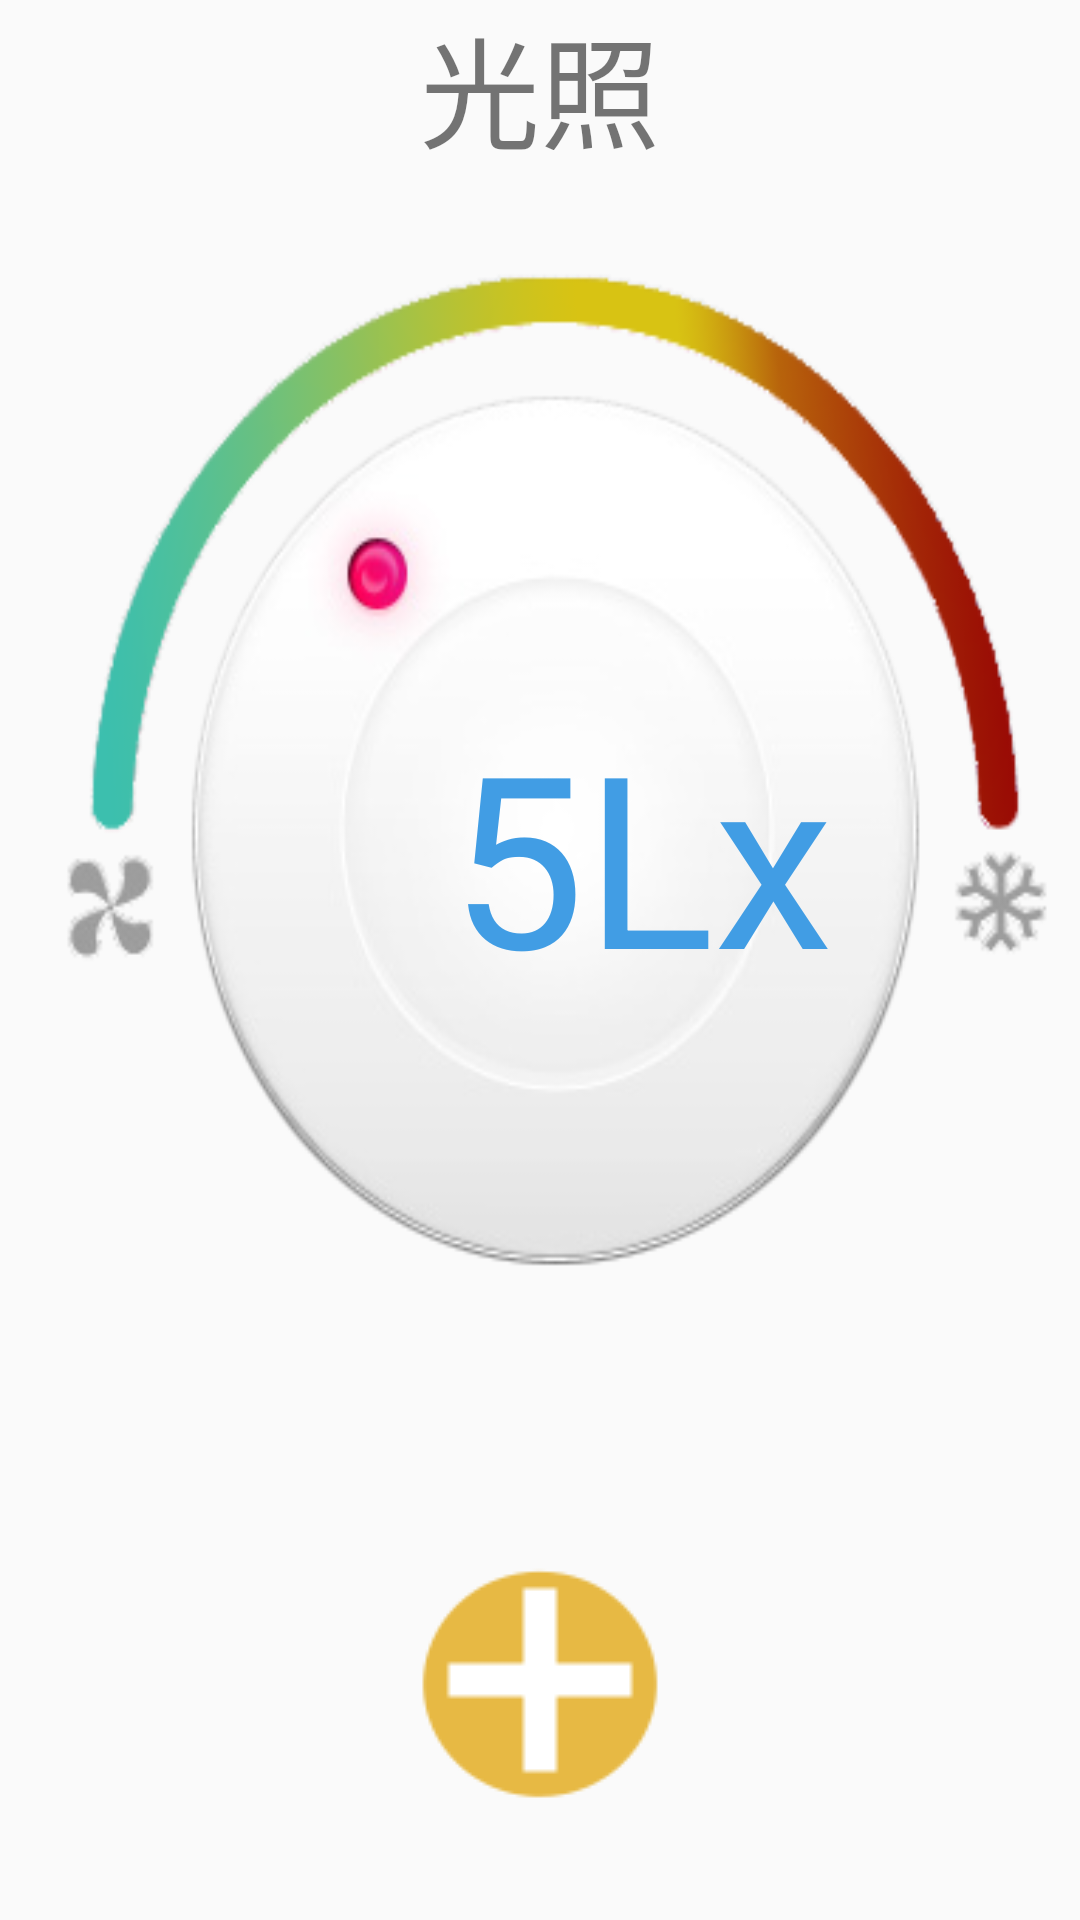

Icons on this 1080 x 1920 Android screen, each with its box as (x1, y1, x2, y2):
add: (422, 1571, 658, 1798)
